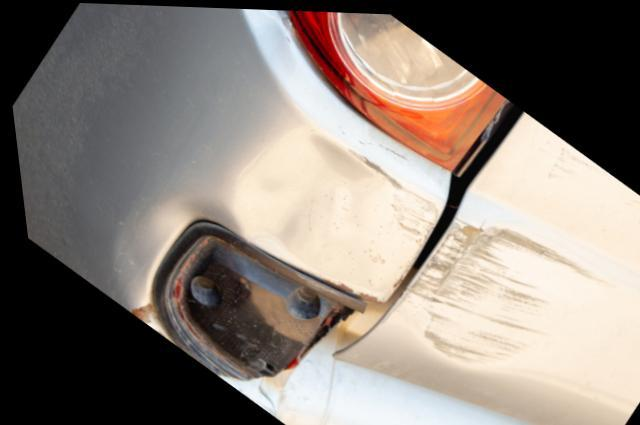dent: (220, 119, 396, 265)
scratch: (396, 211, 612, 370)
